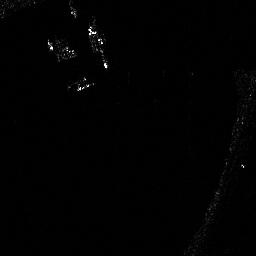ship: (88, 22, 110, 70), (67, 76, 95, 93)
